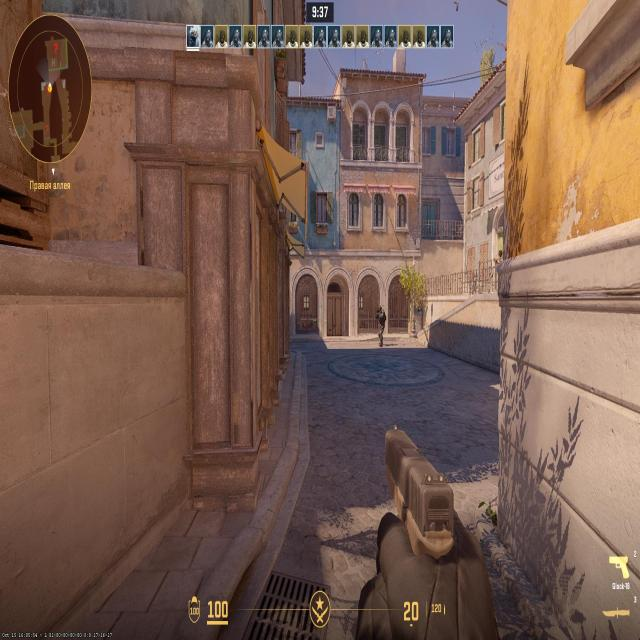CT: (377, 306, 386, 346)
CT_heat: (379, 308, 382, 314)
